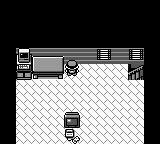leer: (16, 48, 33, 80), (63, 111, 80, 143)
main: (65, 59, 79, 77)
no-caminable: (0, 0, 159, 143), (30, 48, 144, 64), (33, 48, 144, 64), (33, 57, 64, 79), (16, 48, 19, 55)
puerta: (128, 64, 144, 80)
